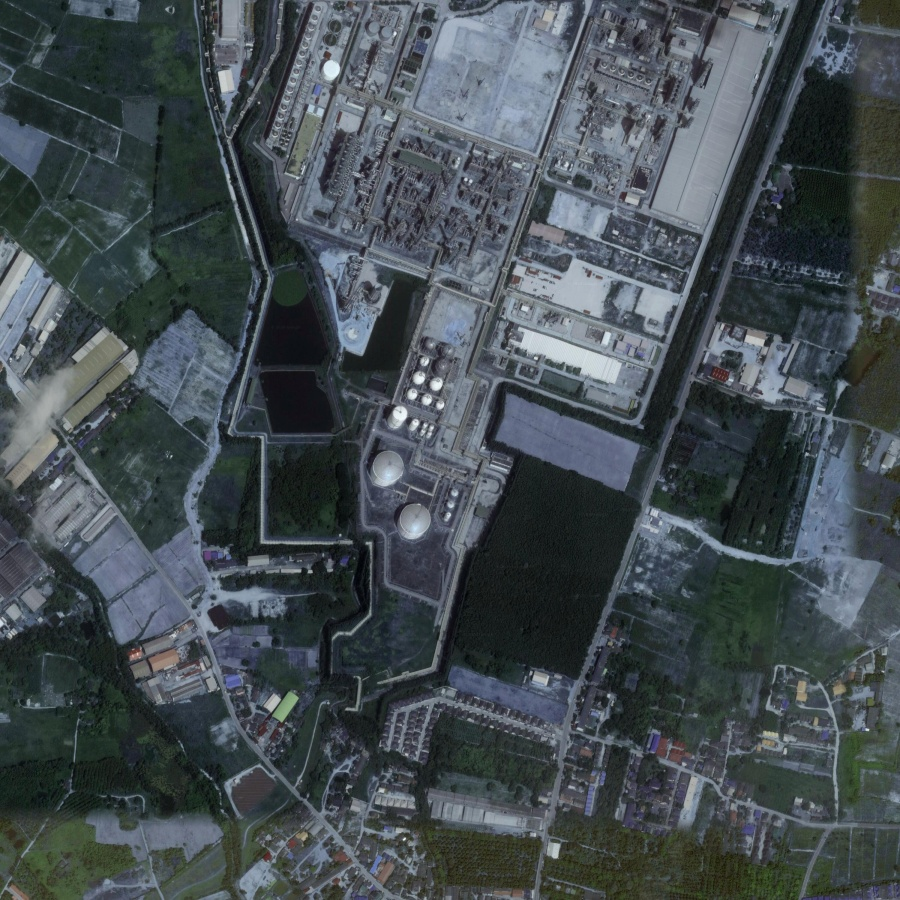PowerPlant: (280, 93, 532, 552)
